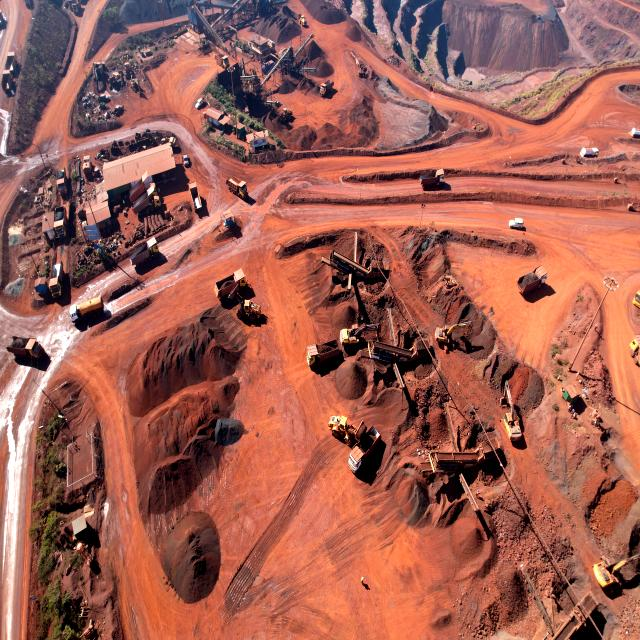Dumper truck: (305, 330, 343, 371), (348, 435, 382, 473), (8, 336, 44, 366), (128, 238, 160, 270), (518, 266, 548, 296), (46, 260, 68, 298), (216, 271, 247, 297), (127, 179, 153, 207), (226, 175, 248, 199), (421, 169, 445, 190), (629, 338, 640, 364), (4, 51, 17, 72), (190, 184, 200, 205), (320, 79, 334, 94), (2, 70, 12, 90), (72, 0, 82, 14), (68, 0, 77, 11)
Excavator: (594, 553, 638, 592), (501, 378, 524, 446), (340, 324, 376, 350), (93, 61, 107, 88)
car: (508, 218, 524, 229), (182, 153, 190, 167), (195, 99, 206, 109), (633, 127, 640, 139)
person: (362, 575, 364, 586)
